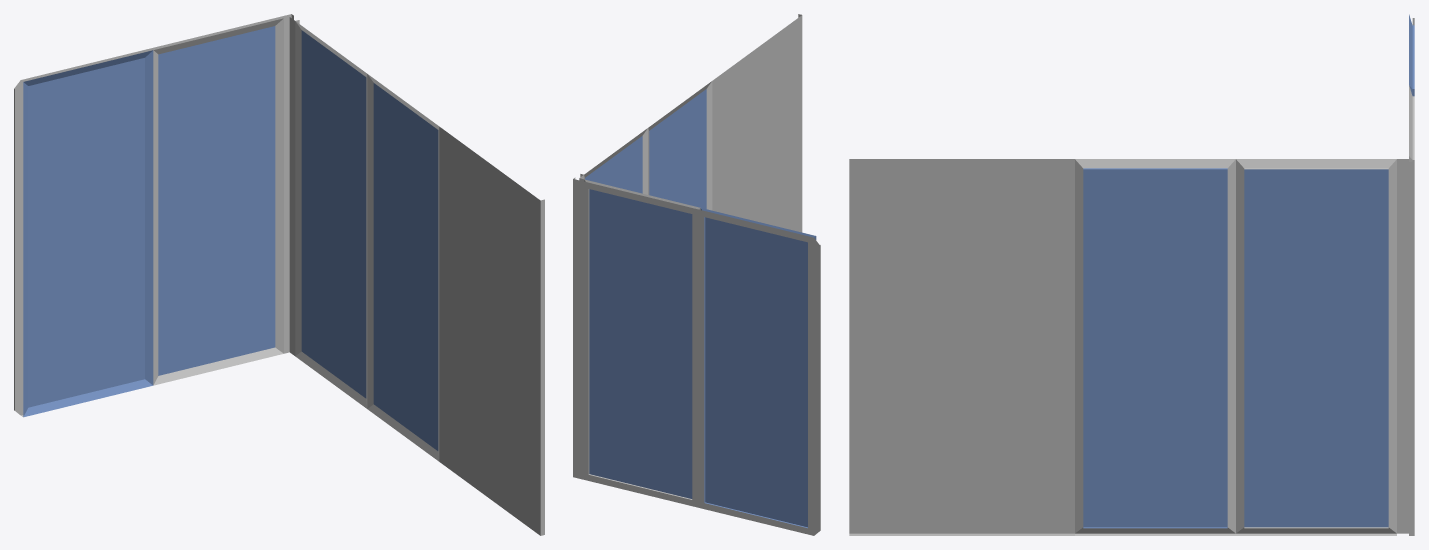
File: wall1.fbx
3 renders of one model, left to right at view 1: azimuth 30°, elevation 25°; view 2: azimuth 150°, elevation 25°; view 3: azimuth 270°, elevation 25°, orthographic. The views are drawn at different scales.
Parts seen in each view (by area): view 1: Plane.002; view 2: Plane.002; view 3: Plane.002.
Part boxes in pixels (x1,y1,x2,y2): Plane.002: (14,14,544,535); Plane.002: (573,14,820,535); Plane.002: (849,14,1414,535).
Size of the model in its own units: 208 by 240 by 328.
